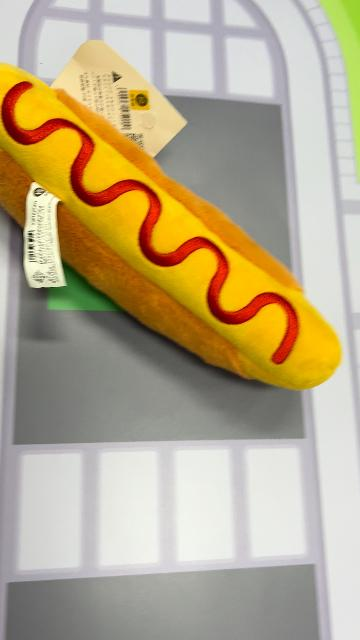hotdog: (1, 61, 343, 392)
